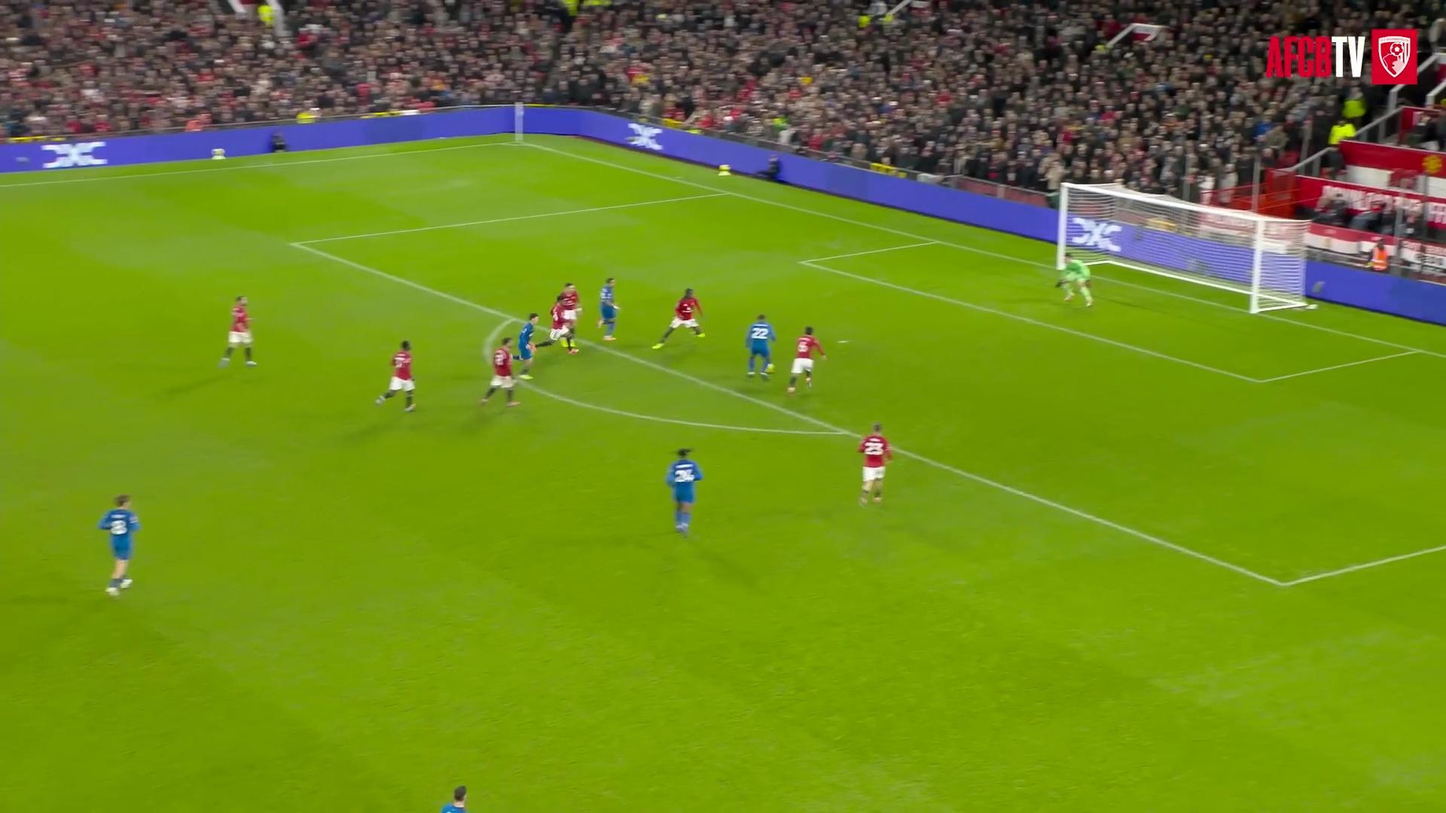player: (98, 495, 140, 595), (666, 449, 703, 535), (652, 289, 703, 349), (858, 422, 892, 504), (376, 340, 414, 412), (219, 296, 256, 367), (480, 338, 518, 406), (513, 312, 551, 379), (787, 327, 825, 392), (746, 314, 776, 379), (1056, 252, 1091, 306), (549, 294, 577, 353), (560, 282, 581, 351), (597, 277, 619, 340), (441, 786, 465, 812)
